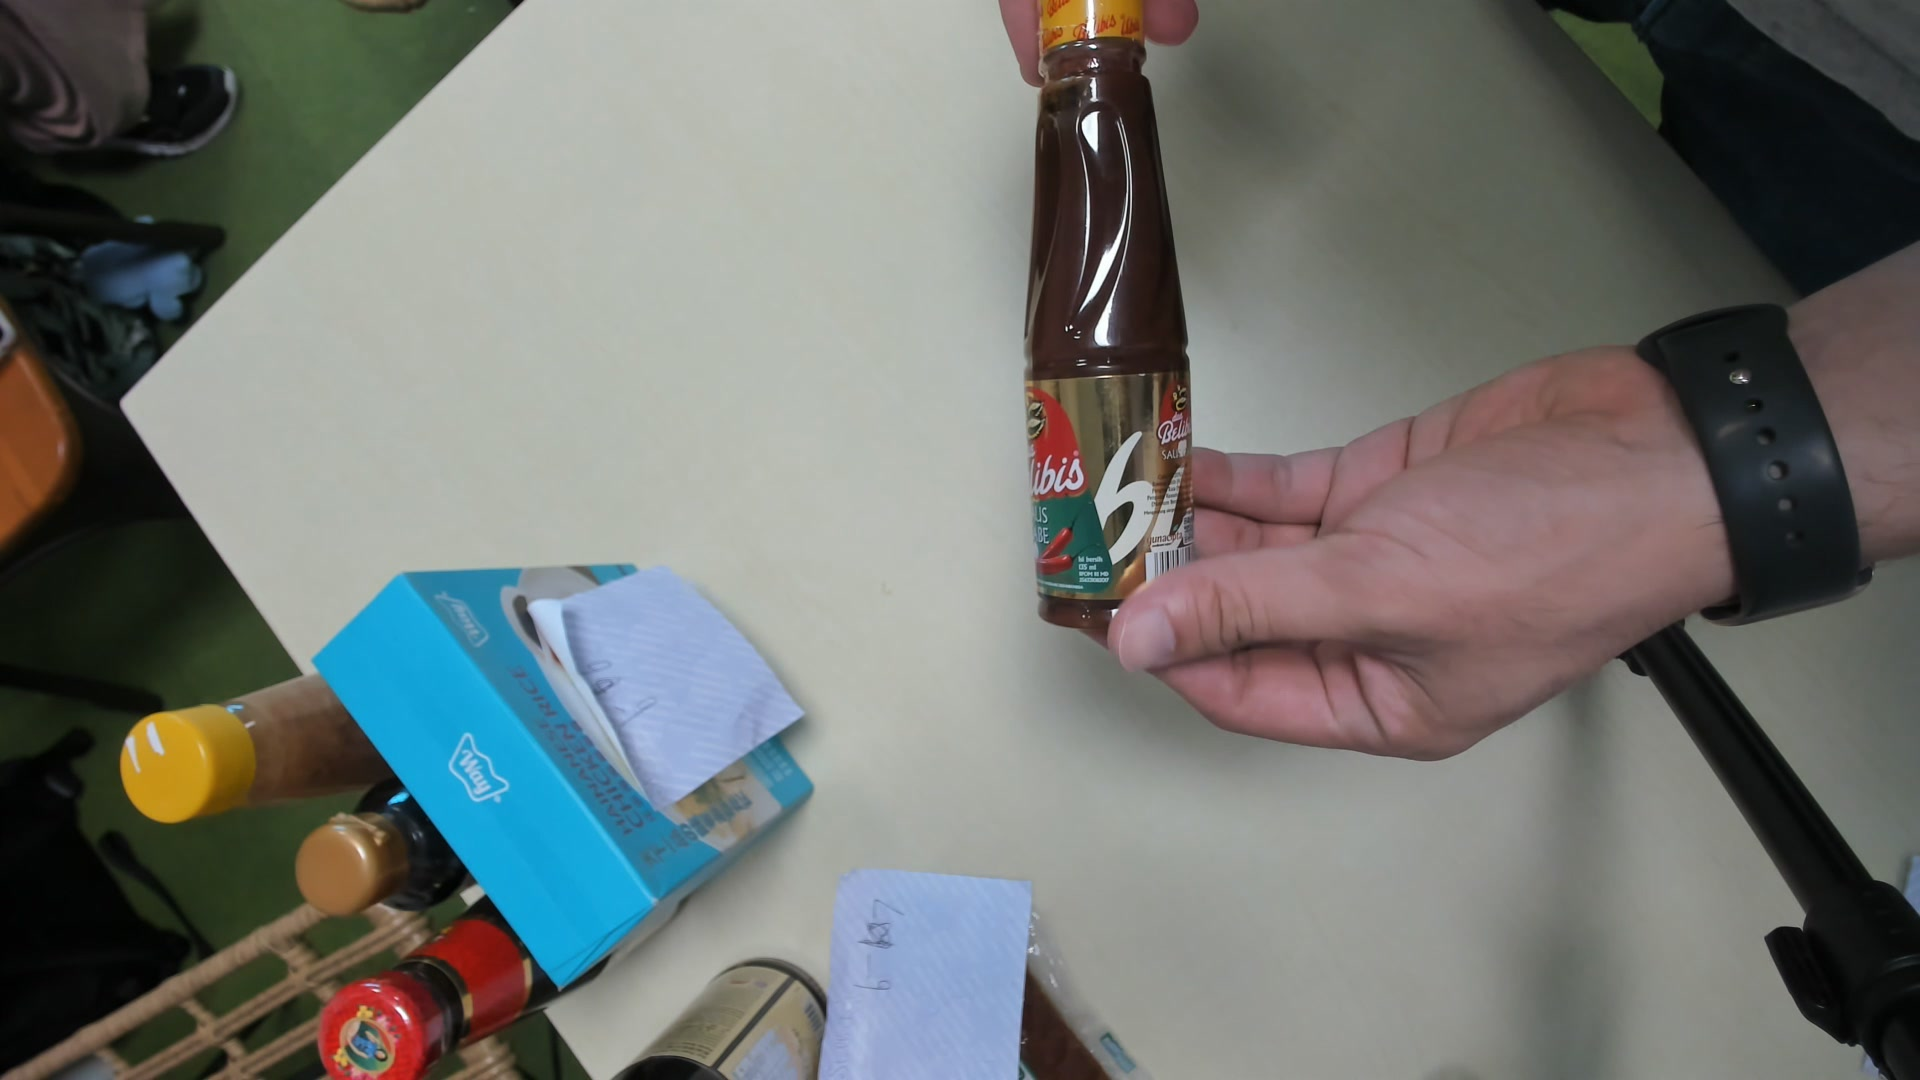KetchupChillSauce_100-199g_Halal_NonHealthy: (1018, 7, 1197, 632)
